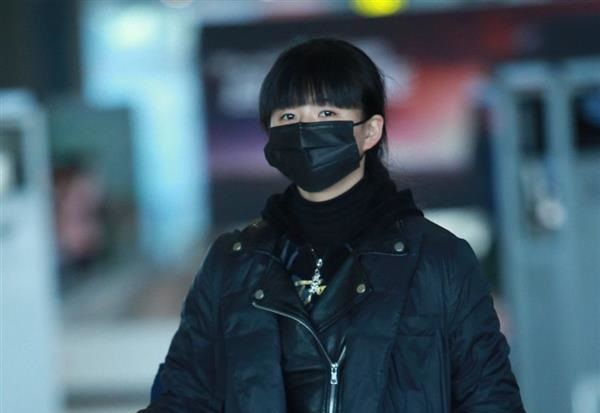face_mask: (267, 78, 361, 184)
